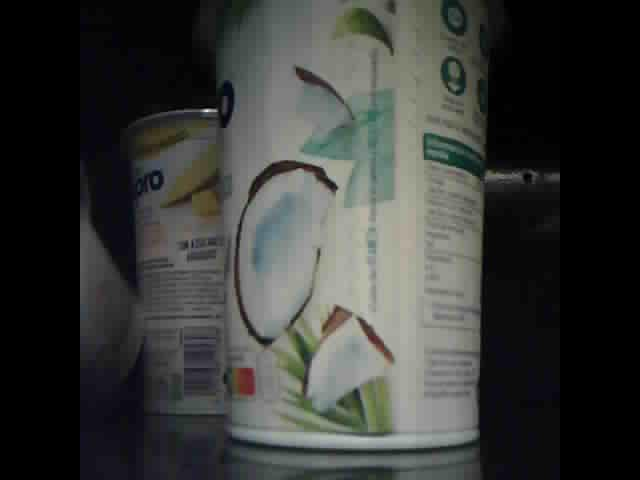alpro: (205, 1, 509, 453), (114, 105, 230, 416)
